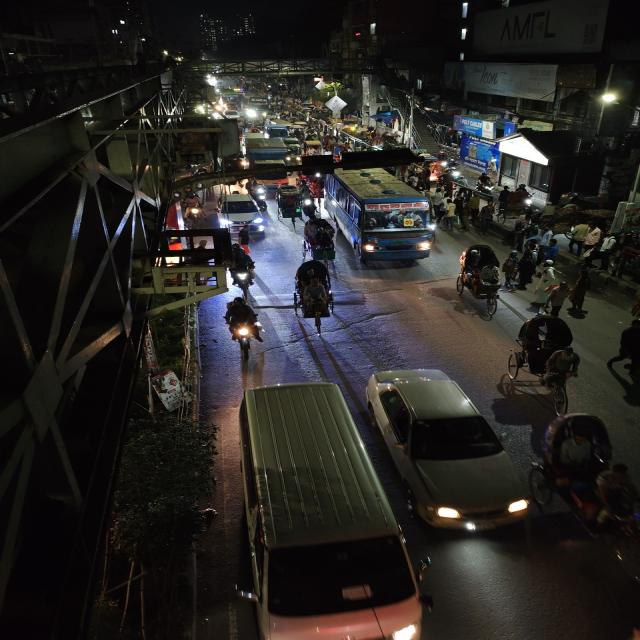bus: (228, 387, 428, 640), (327, 166, 440, 264)
car: (353, 362, 529, 534), (213, 192, 267, 230)
motorcycle: (222, 294, 266, 358), (226, 245, 260, 295)
pedestrian: (612, 316, 640, 396), (492, 184, 528, 224), (566, 270, 597, 313), (514, 251, 538, 291), (544, 283, 571, 317), (448, 196, 471, 232), (501, 251, 521, 289), (439, 198, 462, 231), (567, 221, 588, 257), (534, 265, 558, 295), (474, 202, 496, 234), (461, 193, 481, 227), (624, 288, 640, 322), (544, 236, 562, 264), (475, 172, 493, 194), (528, 238, 542, 262)
rickshaw: (535, 408, 640, 547), (496, 343, 584, 411), (450, 242, 508, 318), (288, 258, 340, 322), (301, 217, 339, 264), (272, 184, 308, 224)
truck: (243, 136, 292, 194)
